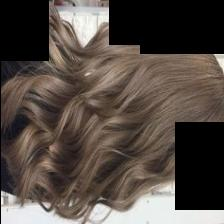brown: (0, 8, 223, 219)
